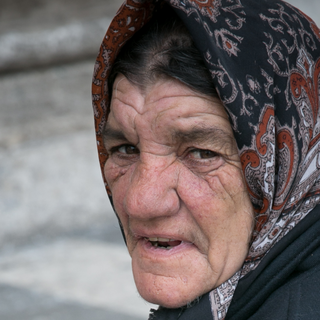eye: (178, 141, 229, 167), (102, 136, 141, 162)
